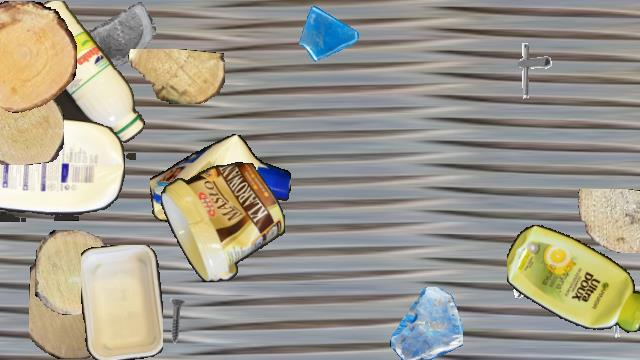glass: (390, 287, 462, 359), (84, 1, 156, 73), (297, 1, 361, 65)
metal: (500, 40, 560, 100), (94, 247, 154, 307), (152, 297, 200, 345), (507, 255, 553, 301), (599, 301, 640, 345)
plastic: (16, 1, 146, 159), (507, 221, 640, 337), (160, 162, 284, 282), (150, 133, 290, 229), (0, 118, 124, 222), (81, 245, 163, 359)
wood: (29, 247, 117, 359), (0, 1, 76, 113), (35, 230, 115, 314), (127, 49, 225, 103), (0, 84, 64, 164), (575, 189, 640, 253), (0, 1, 14, 91)
